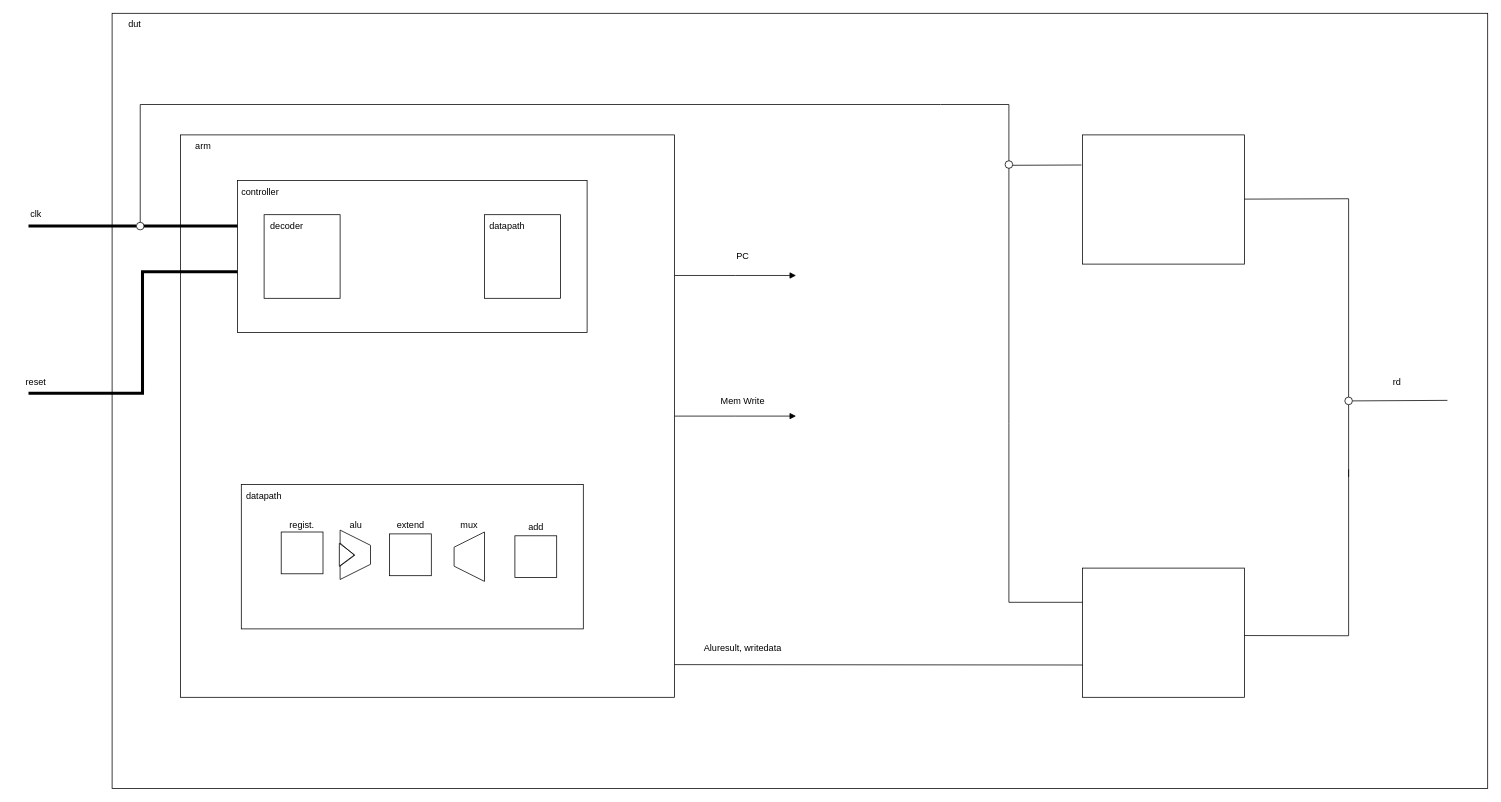
Some shapes in this 1501 by 802 pixel diagram are drawn without their labels. The shapes that lost their labels are listed below. From the top down, each one's centre as x and y in pixels, then its label:
At [1163,199]: "dmem".
At [1163,632]: "imem".
